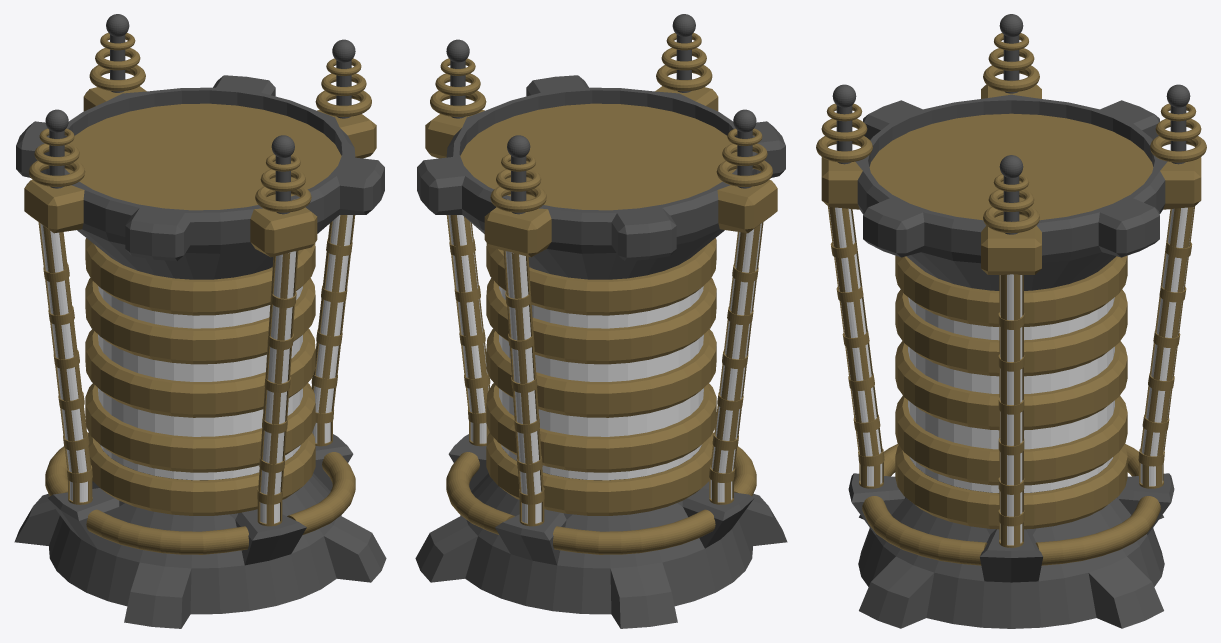
The model's file is FrankensteinTower.fbx.
The picture shows the model from 3 angles, left to right: view 1: azimuth 30°, elevation 25°; view 2: azimuth 150°, elevation 25°; view 3: azimuth 270°, elevation 25°; orthographic projection.
Visible parts, largest first — view 1: Cylinder; view 2: Cylinder; view 3: Cylinder.
Boxes of the visible parts, box(x1,y1,x2,y2) form: Cylinder: box(14, 14, 386, 628); Cylinder: box(415, 14, 787, 628); Cylinder: box(816, 14, 1206, 628).
Bounding box in the file's own units: 3.78 × 5.1 × 3.78.
